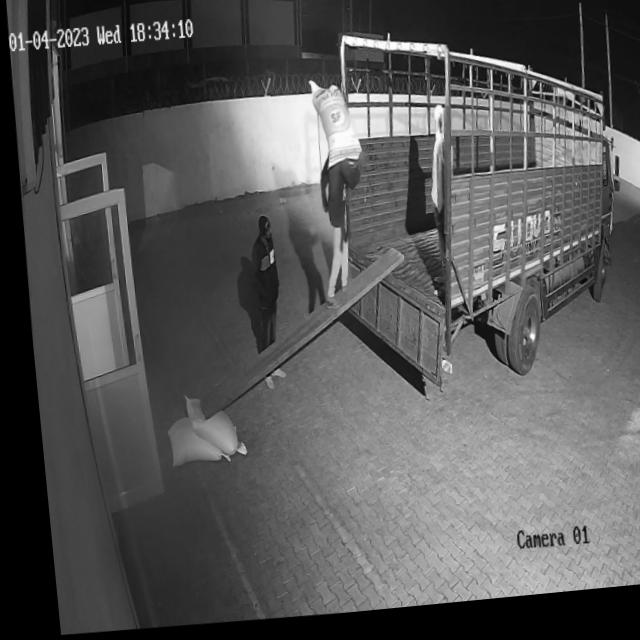sack: (305, 82, 360, 178), (172, 391, 239, 461), (157, 416, 221, 469)
